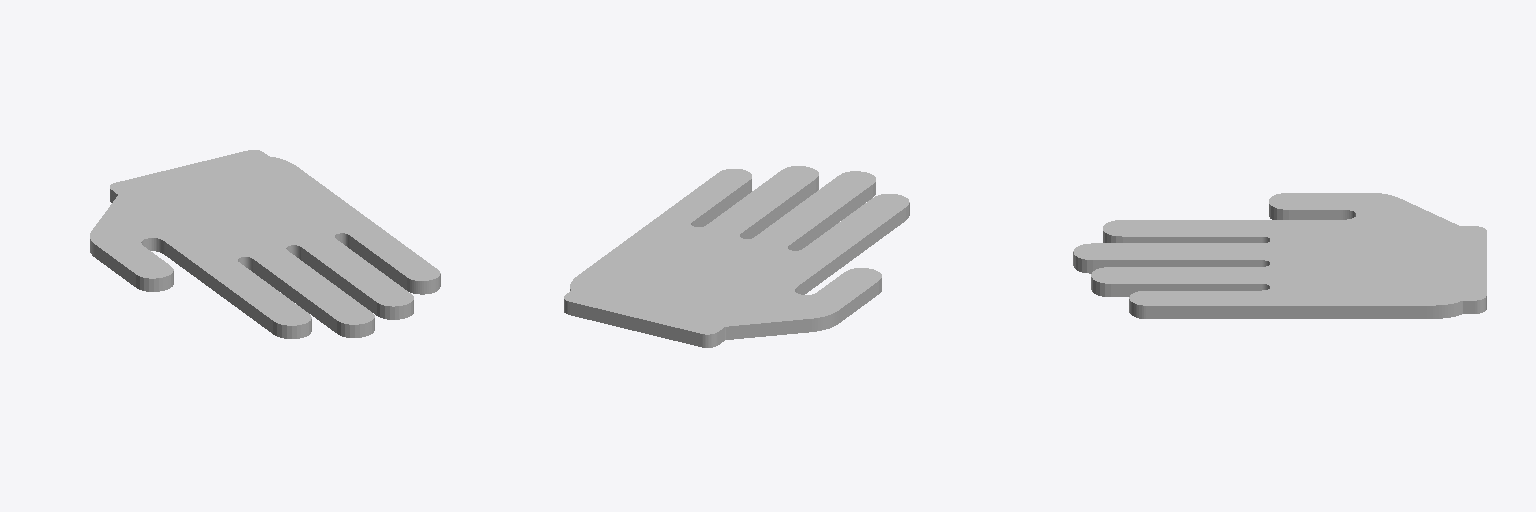
Rendered from correctedHadn.obj.
The picture shows the model from 3 angles: view 1: azimuth 30°, elevation 25°; view 2: azimuth 150°, elevation 25°; view 3: azimuth 270°, elevation 25°; orthographic projection.
Parts seen in each view (by area): view 1: Curve; view 2: Curve; view 3: Curve.
Part boxes in pixels (x1,y1,x2,y2): Curve: (90,150,440,338); Curve: (564,166,909,347); Curve: (1073,193,1486,318).
Bounding box in the file's own units: 1.57 × 0.0872 × 2.42.